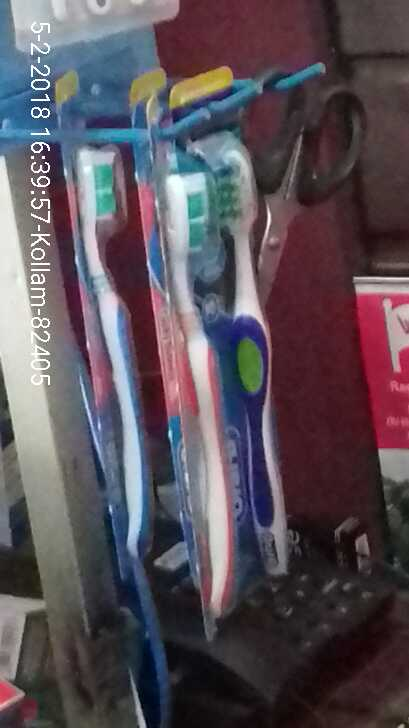oralb: (225, 135, 314, 574), (68, 151, 153, 561), (158, 169, 231, 622)
